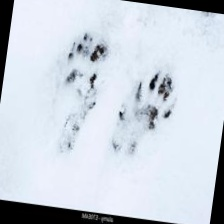raccoon: (128, 69, 186, 139)
